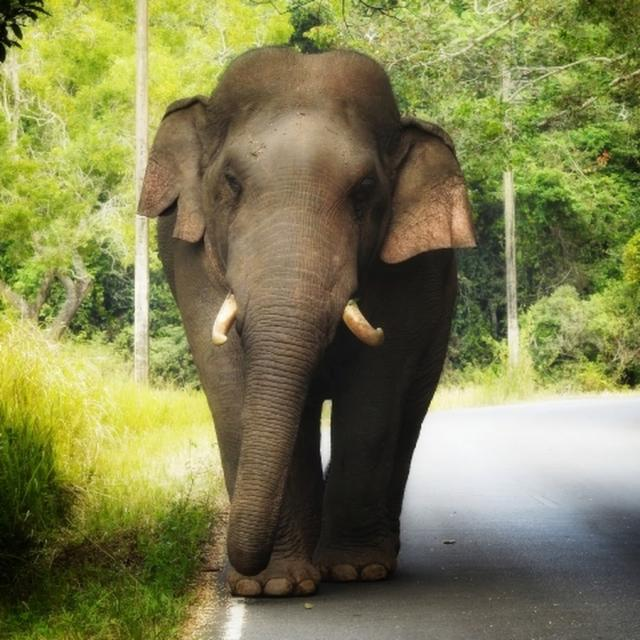Elephant: (152, 44, 476, 601)
